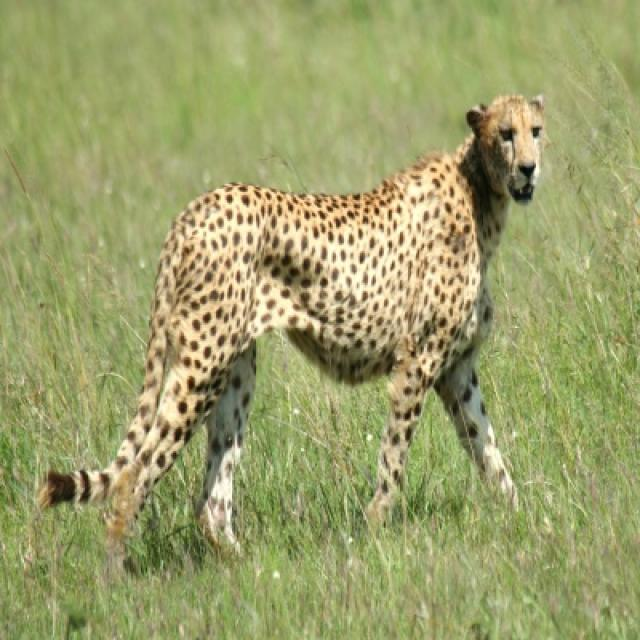Cheetah: (37, 94, 547, 582)
